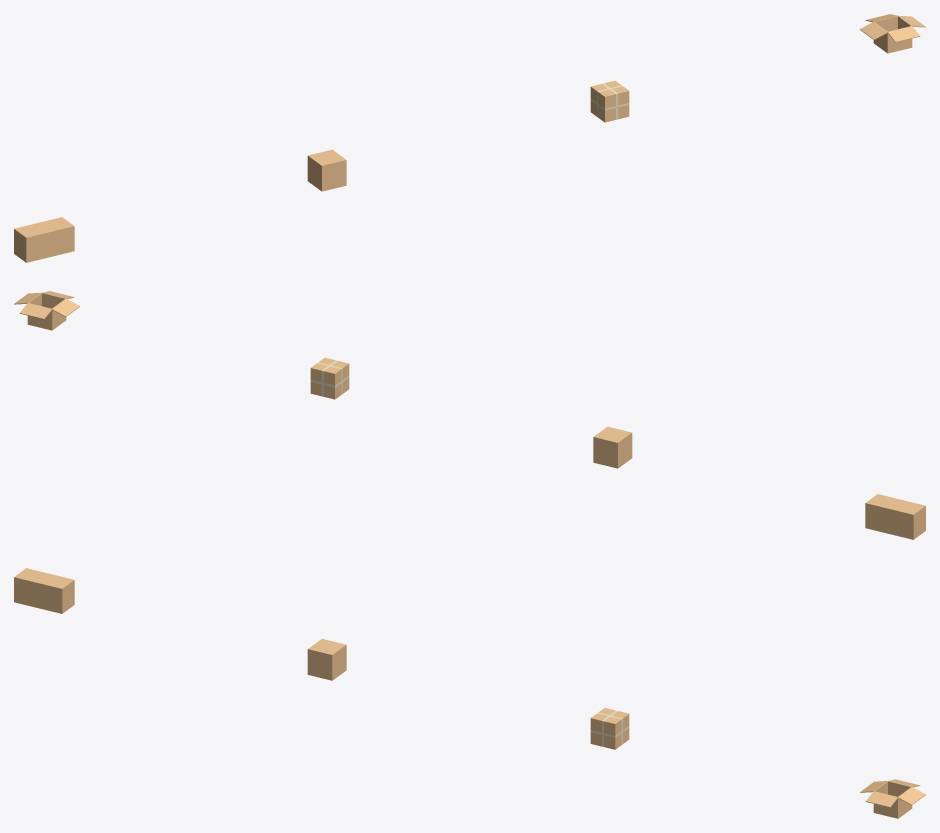
File: city_boxes.glb
The picture shows the model from 3 angles, top to bottom: view 1: azimuth 30°, elevation 25°; view 2: azimuth 150°, elevation 25°; view 3: azimuth 330°, elevation 25°; orthographic projection.
Parts seen in each view (by area): view 1: Box_4_Mat_0; view 2: Box_4_Mat_0; view 3: Box_4_Mat_0.
Part boxes in pixels (x1,y1,x2,y2): Box_4_Mat_0: (14,14,925,262); Box_4_Mat_0: (14,291,925,539); Box_4_Mat_0: (14,568,925,818).
Size of the model in its own units: 6.48 by 0.1773 by 0.3743.
1 material, 1 textured.
